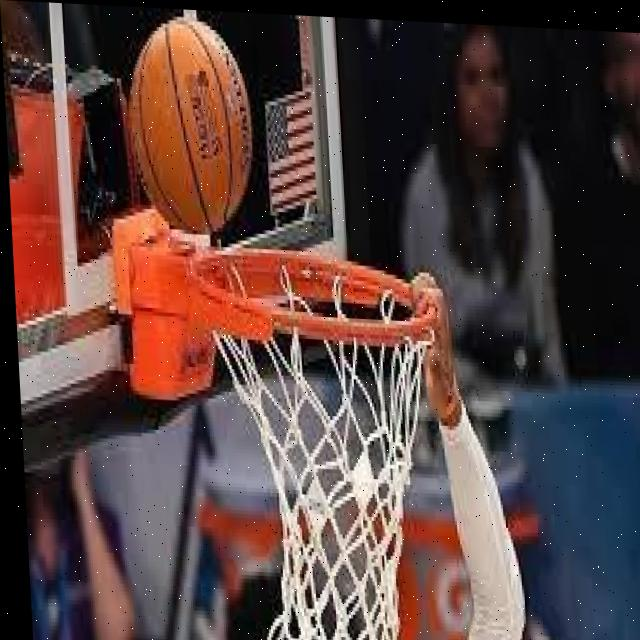basketball: (127, 22, 255, 237)
hoop: (204, 246, 449, 640)
